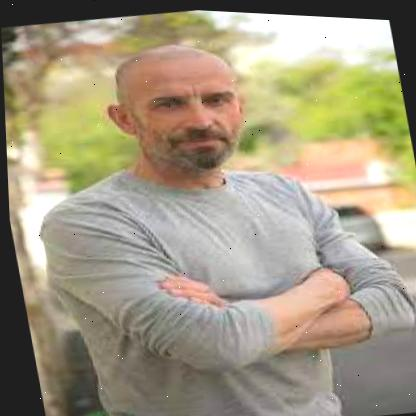person: (100, 38, 257, 182)
